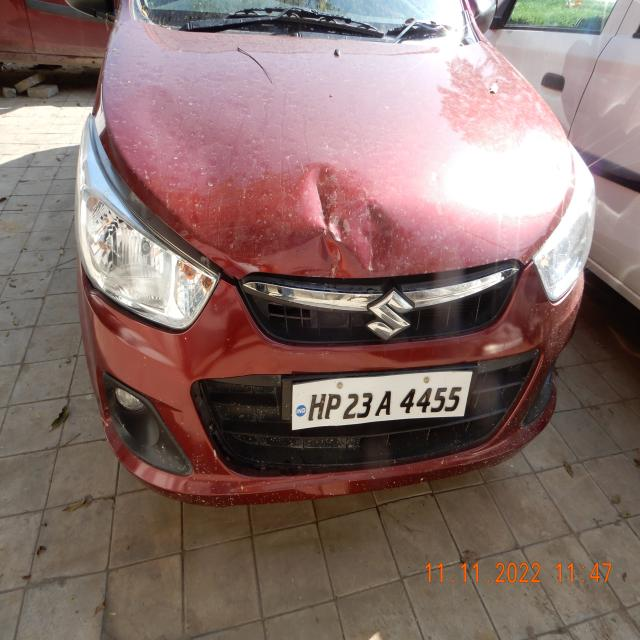damage: (294, 157, 415, 273)
